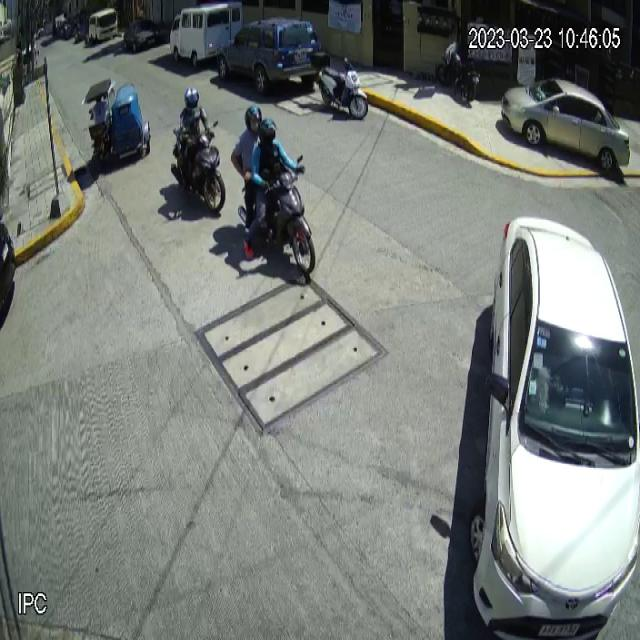Car: (466, 214, 639, 640), (501, 78, 630, 171), (216, 16, 323, 96)
Motorcycle: (238, 152, 316, 275), (170, 121, 228, 212), (312, 54, 368, 120)
Tricycle: (84, 77, 151, 170)
Van: (169, 0, 242, 69)
